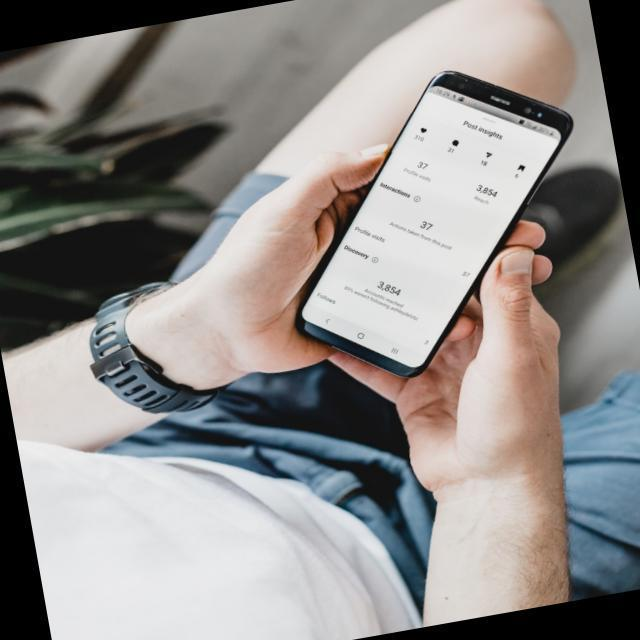Watch: (88, 270, 222, 418)
